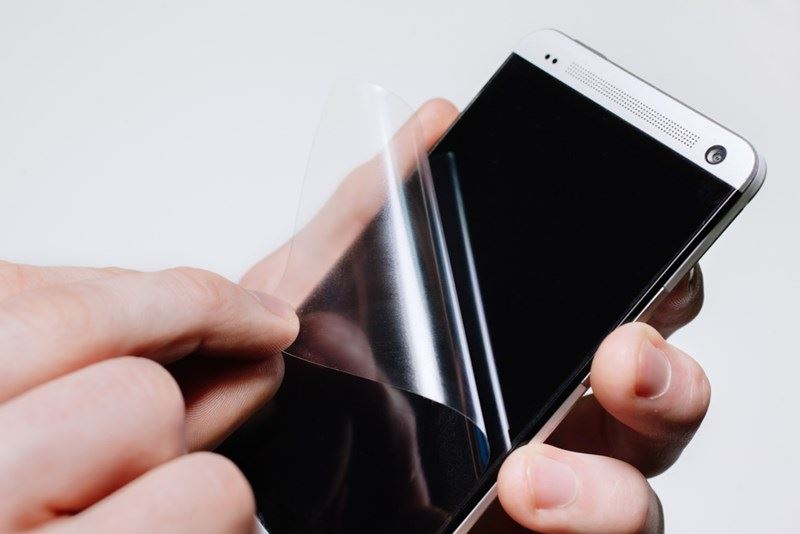phone: (223, 23, 774, 534)
